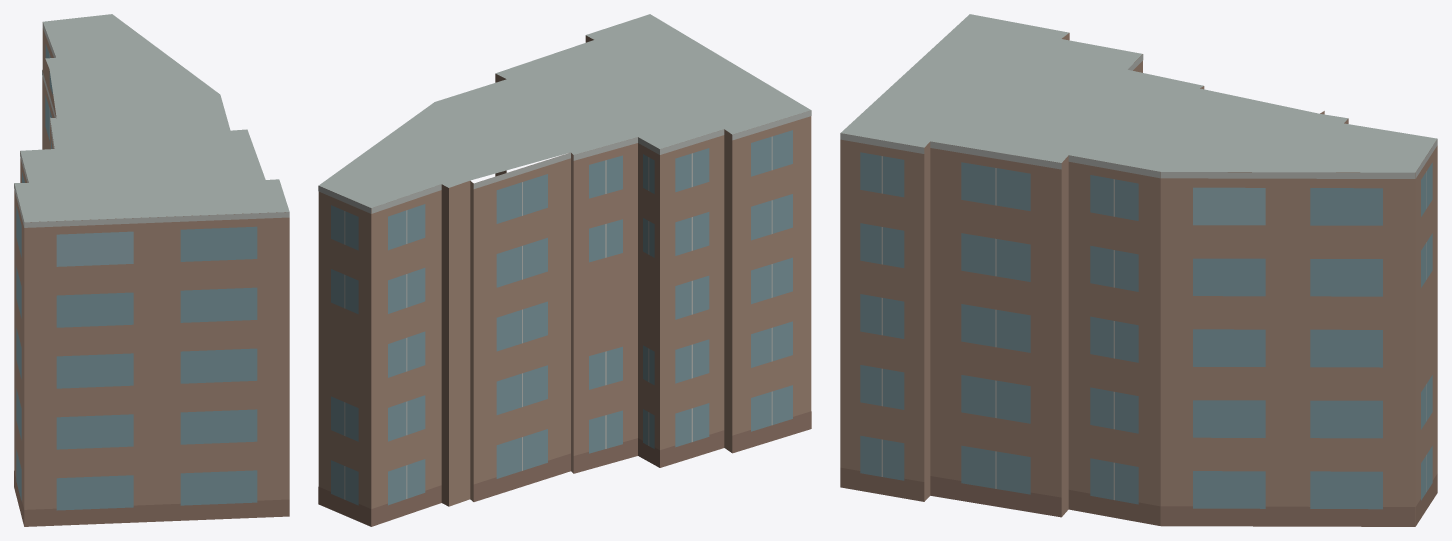
Rendered from survey-upis-32986015.glb.
The picture shows the model from 3 angles, left to right: view 1: azimuth 30°, elevation 25°; view 2: azimuth 150°, elevation 25°; view 3: azimuth 270°, elevation 25°; orthographic projection. The views are drawn at different scales.
Visible parts, largest first — view 1: survey-upis-32986015.tmp; view 2: survey-upis-32986015.tmp; view 3: survey-upis-32986015.tmp.
Boxes of the visible parts, x1=… form: survey-upis-32986015.tmp: x1=14, y1=14, x2=289, y2=526; survey-upis-32986015.tmp: x1=318, y1=14, x2=811, y2=526; survey-upis-32986015.tmp: x1=840, y1=14, x2=1437, y2=526.
Size of the model in its own units: 12.78 by 13.3 by 20.33.
